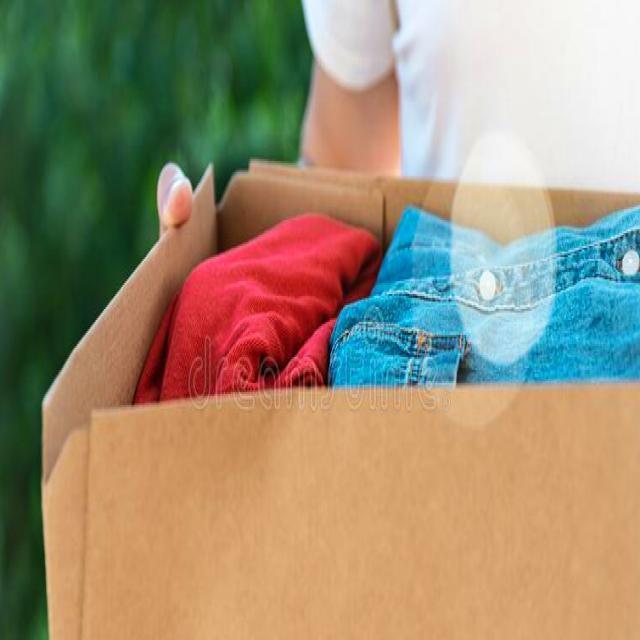clothes: (217, 232, 640, 391)
